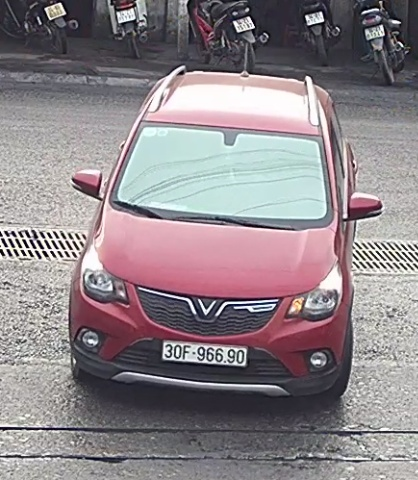vehicle plate: (161, 336, 251, 366)
